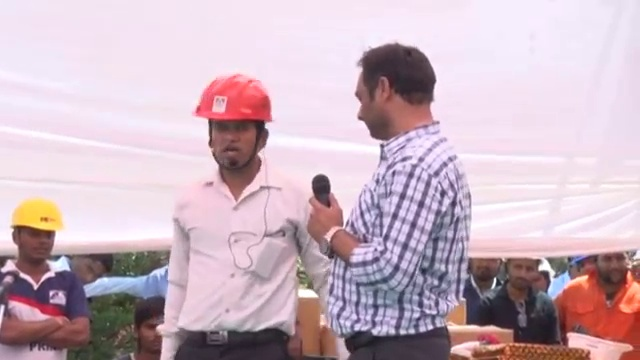helmet: (187, 74, 279, 129), (3, 200, 66, 238), (564, 330, 633, 360)
helmet_off: (350, 48, 441, 140), (129, 298, 166, 356), (65, 254, 112, 290), (589, 252, 633, 289), (505, 256, 544, 296), (471, 254, 503, 290)
helmet_on: (188, 79, 277, 183), (1, 201, 67, 266)
person: (138, 70, 329, 360), (307, 46, 471, 360), (0, 203, 92, 360), (556, 252, 640, 359), (481, 257, 562, 339), (457, 253, 514, 328)
